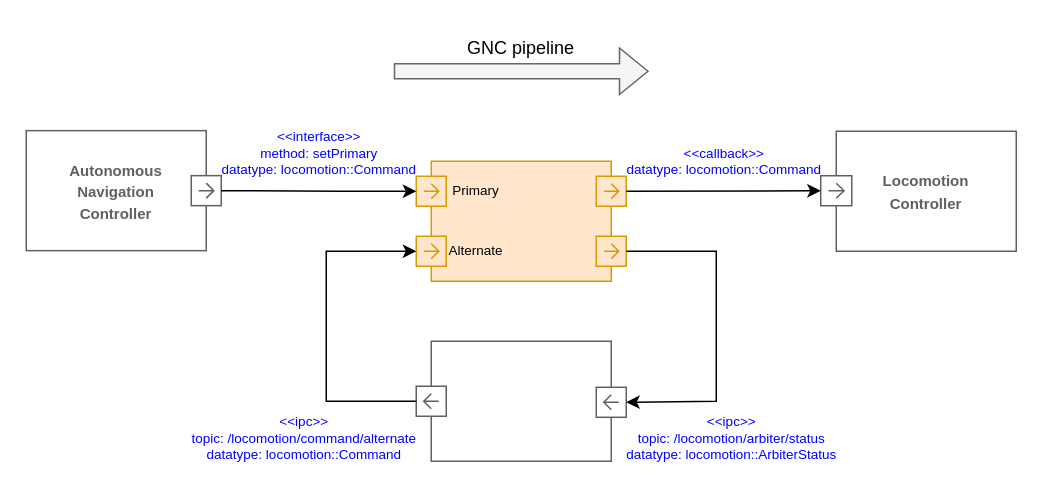
Some shapes in this 1043 by 501 pixel diagram are drawn without their labels. Each missing label, with the box of its shape:
locomotion::Arbiter: (430, 160, 611, 281)
Teleop Controller: (430, 340, 611, 461)
